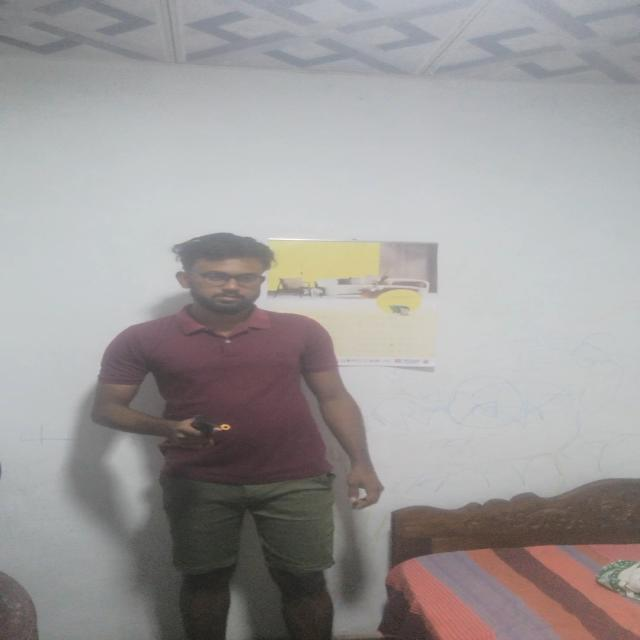Gun_Holder: (166, 413, 253, 448)
Person: (93, 230, 387, 640)
